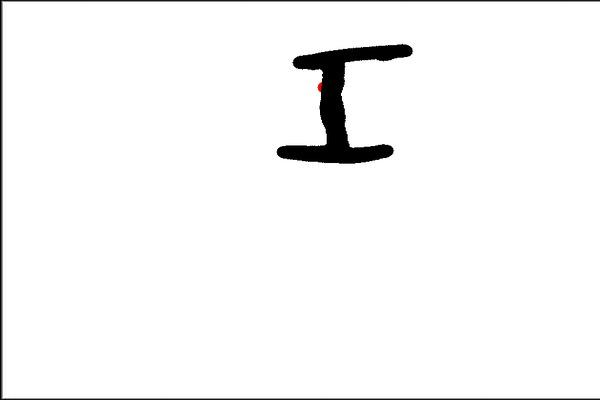i: (268, 32, 411, 169)
